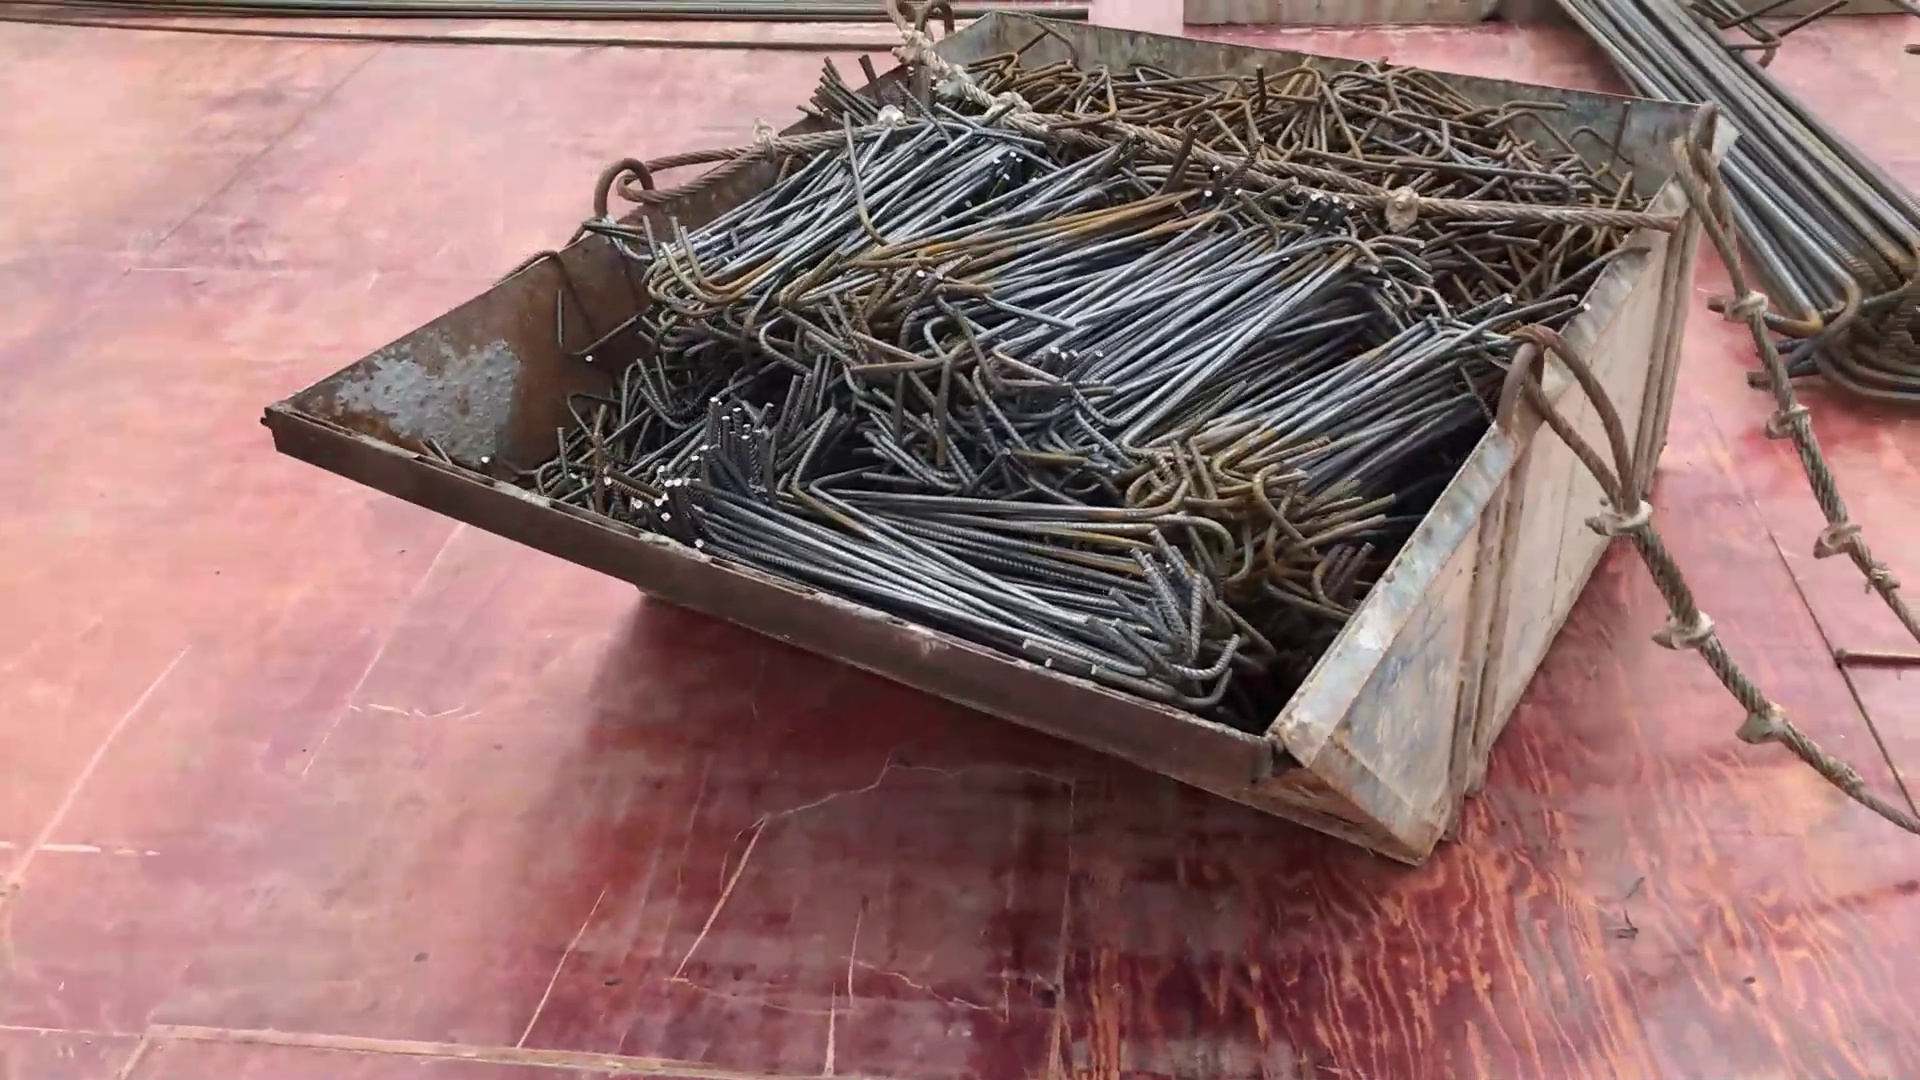hopper: (252, 22, 1722, 858)
rebar: (1581, 15, 1920, 382)
